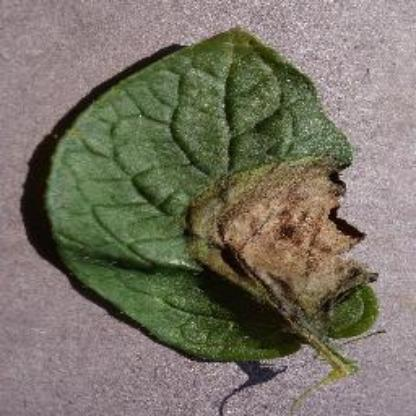Late-Blight: (20, 6, 396, 404)
